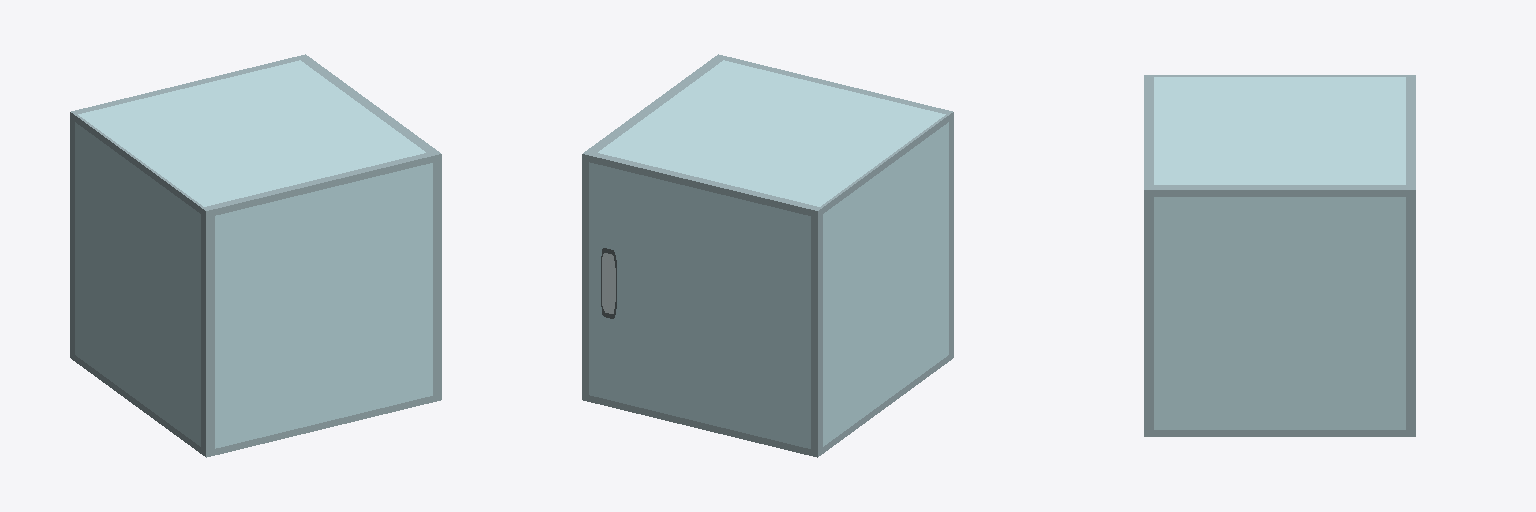
3 views of the same model, side by side, from view 1: azimuth 30°, elevation 25°; view 2: azimuth 150°, elevation 25°; view 3: azimuth 270°, elevation 25° (orthographic).
Parts seen in each view (by area): view 1: Cube; view 2: Cube; view 3: Cube.
Boxes of the visible parts, box(x1,y1,x2,y2) form: Cube: box(70, 54, 441, 457); Cube: box(582, 54, 953, 457); Cube: box(1144, 75, 1415, 436).
Bounding box in the file's own units: 2 × 2 × 2.
1 materials, 1 textured.